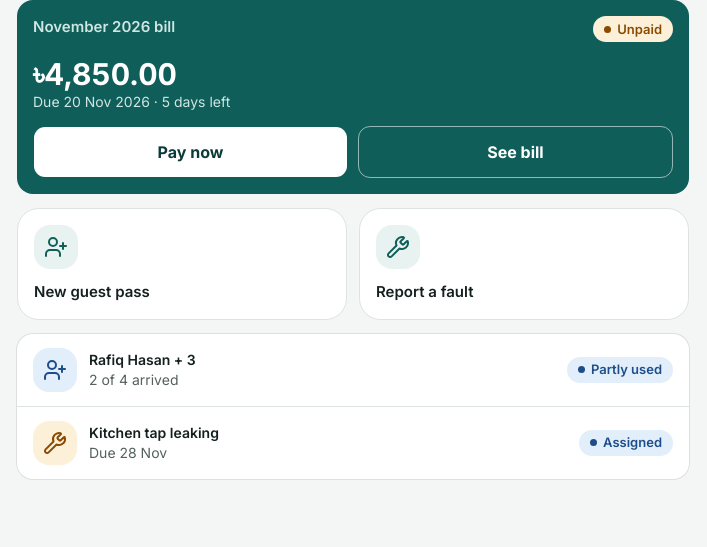
Test: ResidentHome › shows the refusal on the card when Pay now is refused
Click the button "Pay now". click: (190, 152)
box: [33,126,348,178]
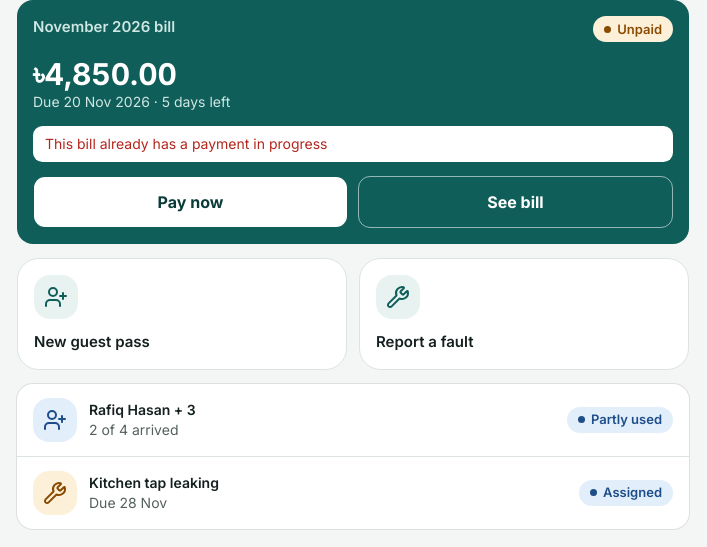
Expected: the button "Pay now" is enabled, [33,176,348,228]
Result: the message reads "This bill already has a payment in progress" at [45,135,328,152]
